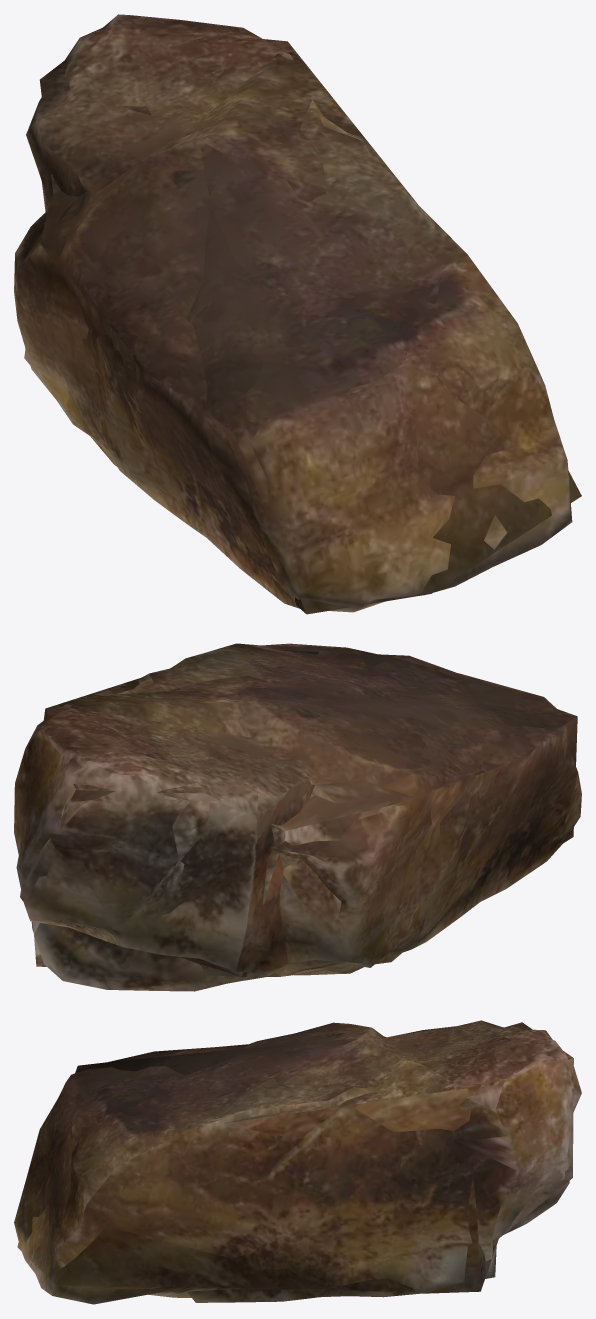
The model's file is rock_a.glb.
3 renders of one model, top to bottom at view 1: azimuth 30°, elevation 25°; view 2: azimuth 150°, elevation 25°; view 3: azimuth 270°, elevation 25°, orthographic. The views are drawn at different scales.
Parts seen in each view (by area): view 1: lod0; view 2: lod0; view 3: lod0.
Boxes of the visible parts, bbox=[...] form: lod0: bbox=[14, 14, 581, 614]; lod0: bbox=[14, 643, 581, 991]; lod0: bbox=[14, 1020, 581, 1304].
Size of the model in its own units: 0.5282 by 0.4455 by 1.
1 material, 1 textured.
